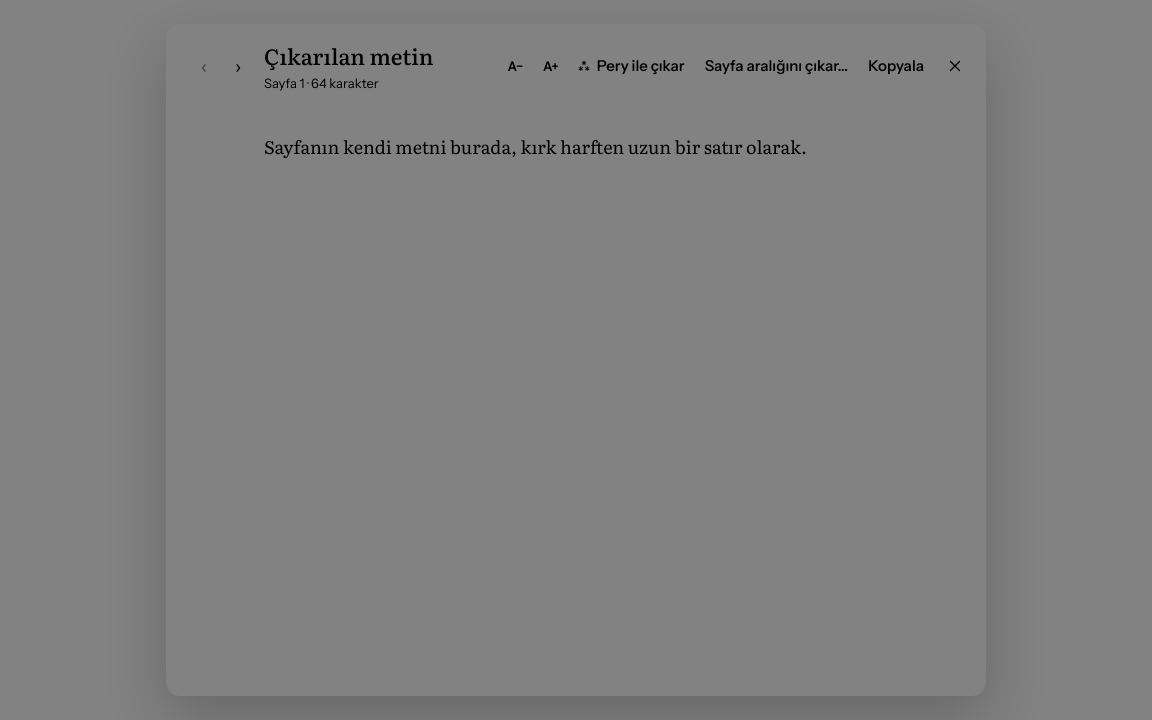
it: Extract text › offers a plain Copy, and the read pages only when there are several
Later steps or results of the test are not shown.
Click the button "Kopyala" at point(898, 66), box [862,50,934,82]
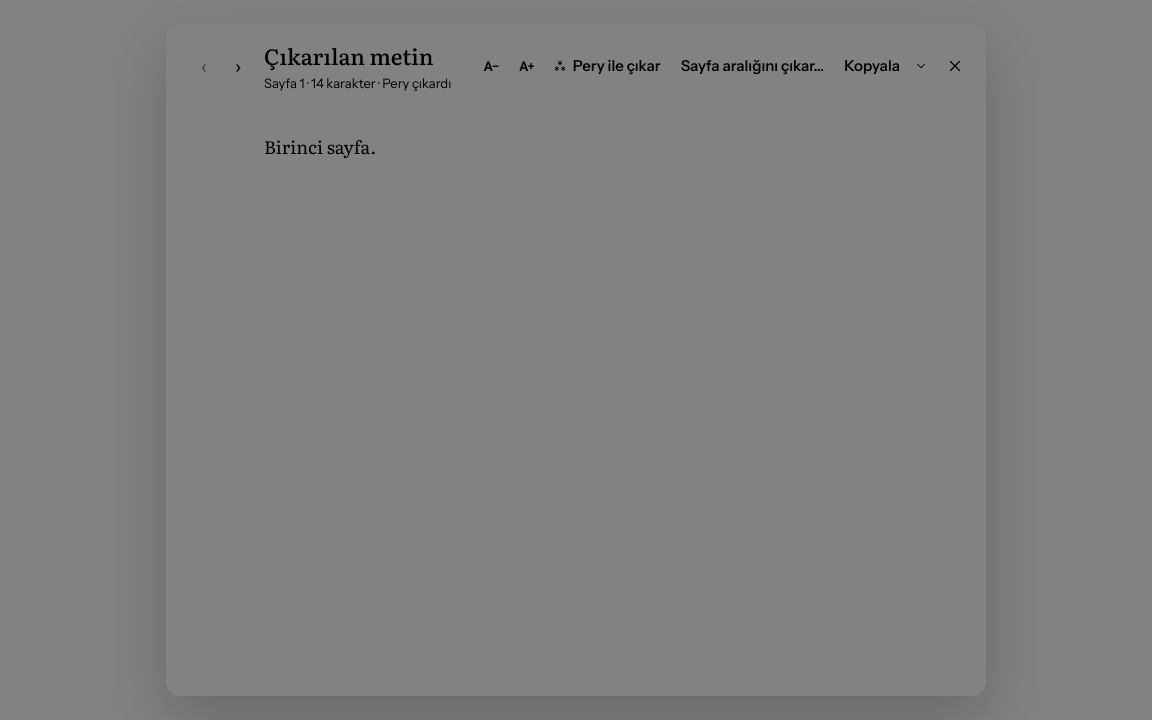
Click the button named "Çıkarılan tüm sayfaları kopyala" at point(921, 66), box [908,50,934,82]
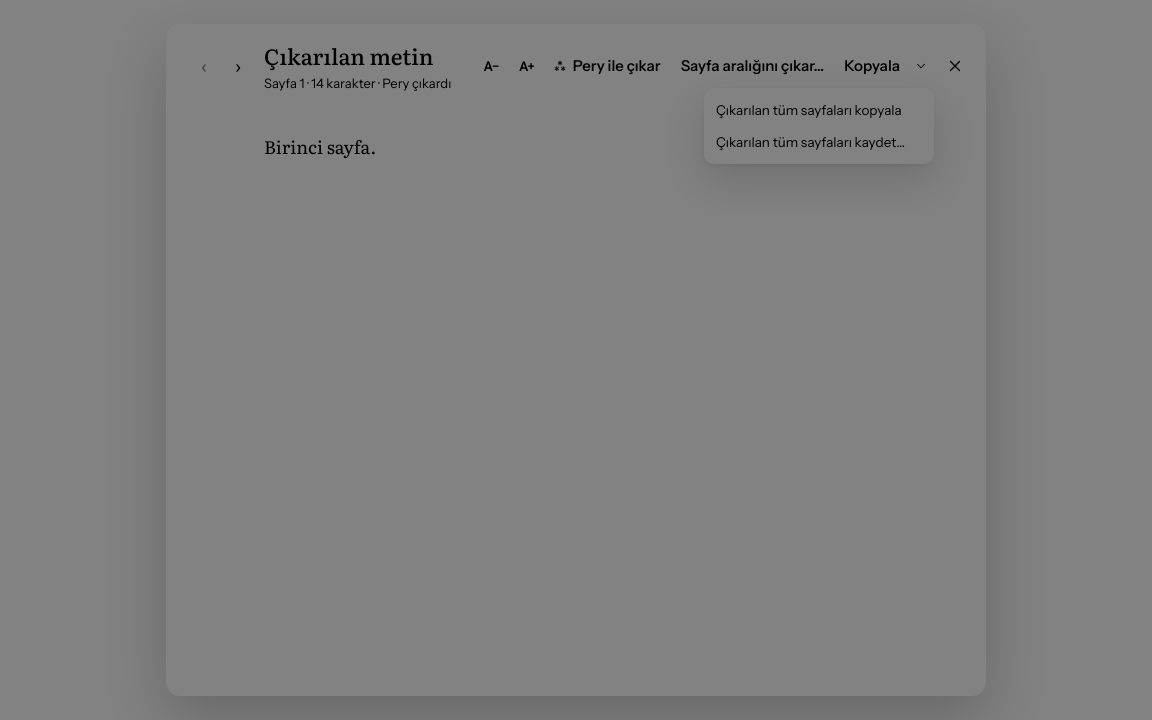
Click the menu item "Çıkarılan tüm sayfaları kopyala" at point(819, 110), box [710,94,928,126]
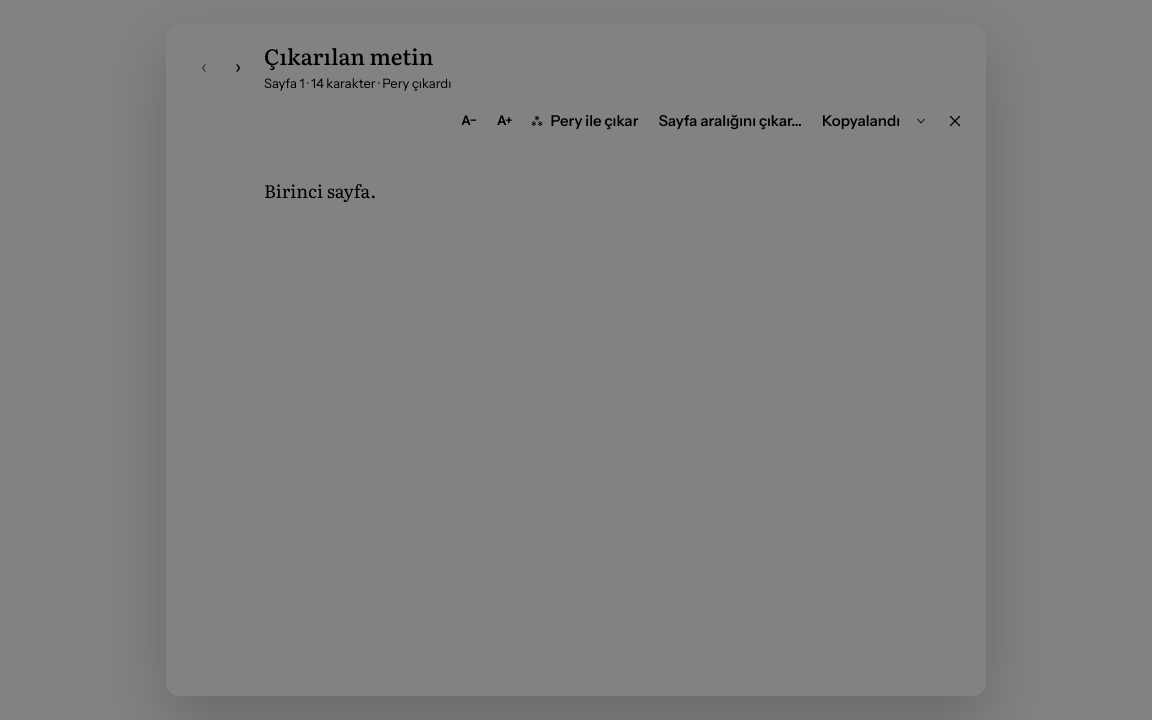
Expected: the menu is gone
